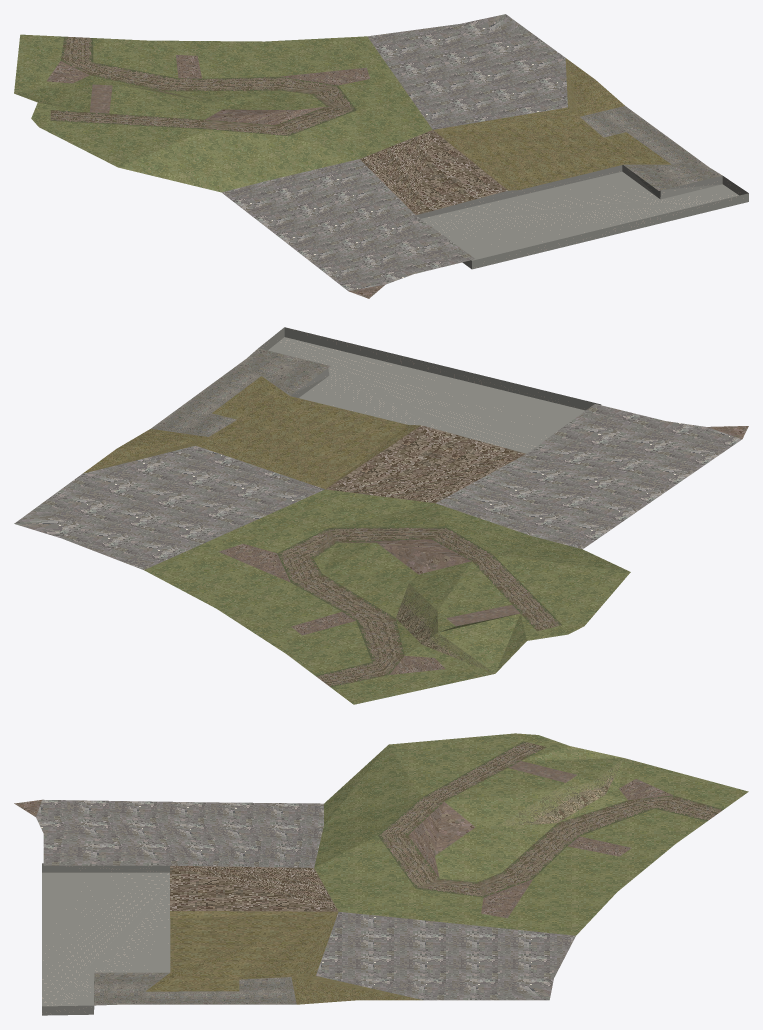
The model's file is lodcuntegd12a01.obj.
3 renders of one model, top to bottom at view 1: azimuth 30°, elevation 25°; view 2: azimuth 150°, elevation 25°; view 3: azimuth 270°, elevation 25°, orthographic. The views are drawn at different scales.
Visible parts, largest first — view 1: LODcuntEgd12a01; view 2: LODcuntEgd12a01; view 3: LODcuntEgd12a01.
Part boxes in pixels (box(x1,y1,x2,y2)): LODcuntEgd12a01: box(14, 14, 748, 298); LODcuntEgd12a01: box(14, 327, 748, 704); LODcuntEgd12a01: box(14, 733, 748, 1015).
Bounding box in the file's own units: 117 × 7.05 × 145.
8 materials, 8 textured.
